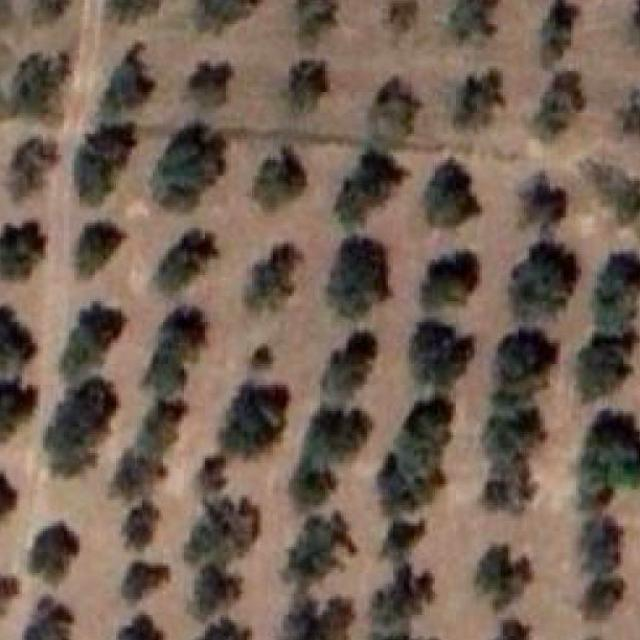Tree: (376, 398, 453, 516), (109, 398, 186, 500), (42, 374, 113, 480), (153, 122, 226, 210), (578, 409, 640, 508), (143, 306, 207, 398), (364, 564, 441, 640), (327, 236, 390, 321), (336, 149, 406, 223), (52, 301, 125, 369), (511, 244, 578, 318), (220, 383, 286, 458), (182, 494, 257, 560), (492, 328, 558, 402), (286, 514, 354, 580), (304, 406, 372, 470), (410, 319, 474, 387), (573, 332, 636, 398), (590, 252, 640, 333), (154, 230, 218, 293), (578, 160, 640, 223), (368, 76, 422, 148), (243, 243, 301, 310), (422, 158, 479, 226), (321, 332, 378, 400), (474, 545, 531, 610), (101, 42, 155, 110), (420, 252, 479, 312), (251, 148, 306, 211), (184, 563, 244, 620), (532, 74, 584, 139), (14, 53, 69, 114), (576, 514, 629, 576), (8, 136, 58, 199), (29, 524, 80, 584), (483, 406, 543, 457), (452, 71, 503, 129), (282, 596, 348, 640), (480, 461, 531, 517), (74, 220, 124, 277), (0, 372, 40, 440), (518, 170, 566, 226), (0, 221, 46, 279), (541, 0, 578, 68), (291, 458, 341, 507), (73, 144, 111, 205), (22, 596, 72, 640), (187, 61, 233, 106), (578, 576, 626, 619), (196, 0, 258, 33), (0, 305, 30, 372), (88, 124, 137, 164), (451, 0, 501, 39), (122, 500, 160, 550), (289, 60, 328, 108), (382, 520, 424, 564), (120, 563, 168, 601), (104, 0, 170, 22), (298, 0, 336, 38), (195, 617, 252, 640), (618, 82, 640, 137), (116, 615, 163, 640), (388, 0, 417, 35), (490, 620, 532, 640), (33, 0, 69, 22), (0, 474, 17, 518), (253, 346, 273, 369), (633, 0, 640, 58)
